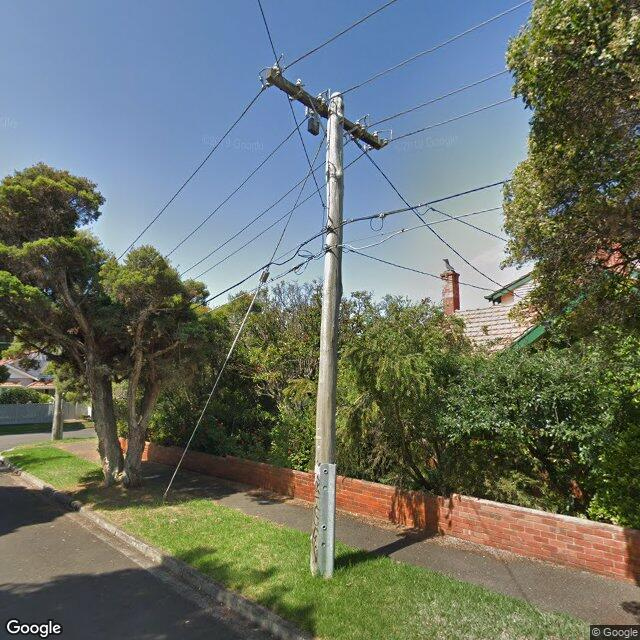crossarm: (258, 52, 394, 155)
timber-pole: (310, 91, 345, 579)
